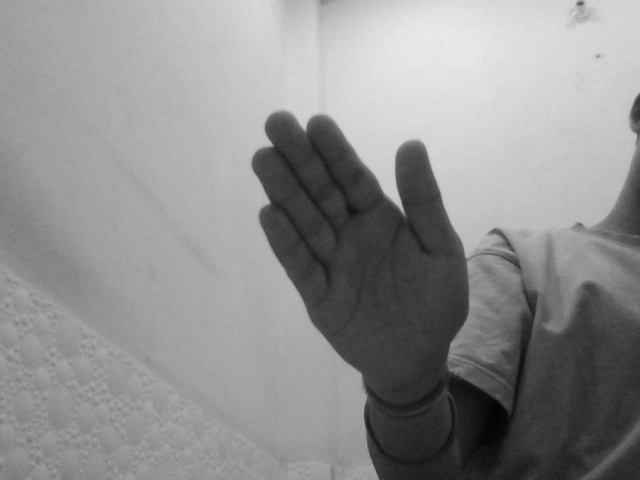Hello: (247, 109, 469, 394)
